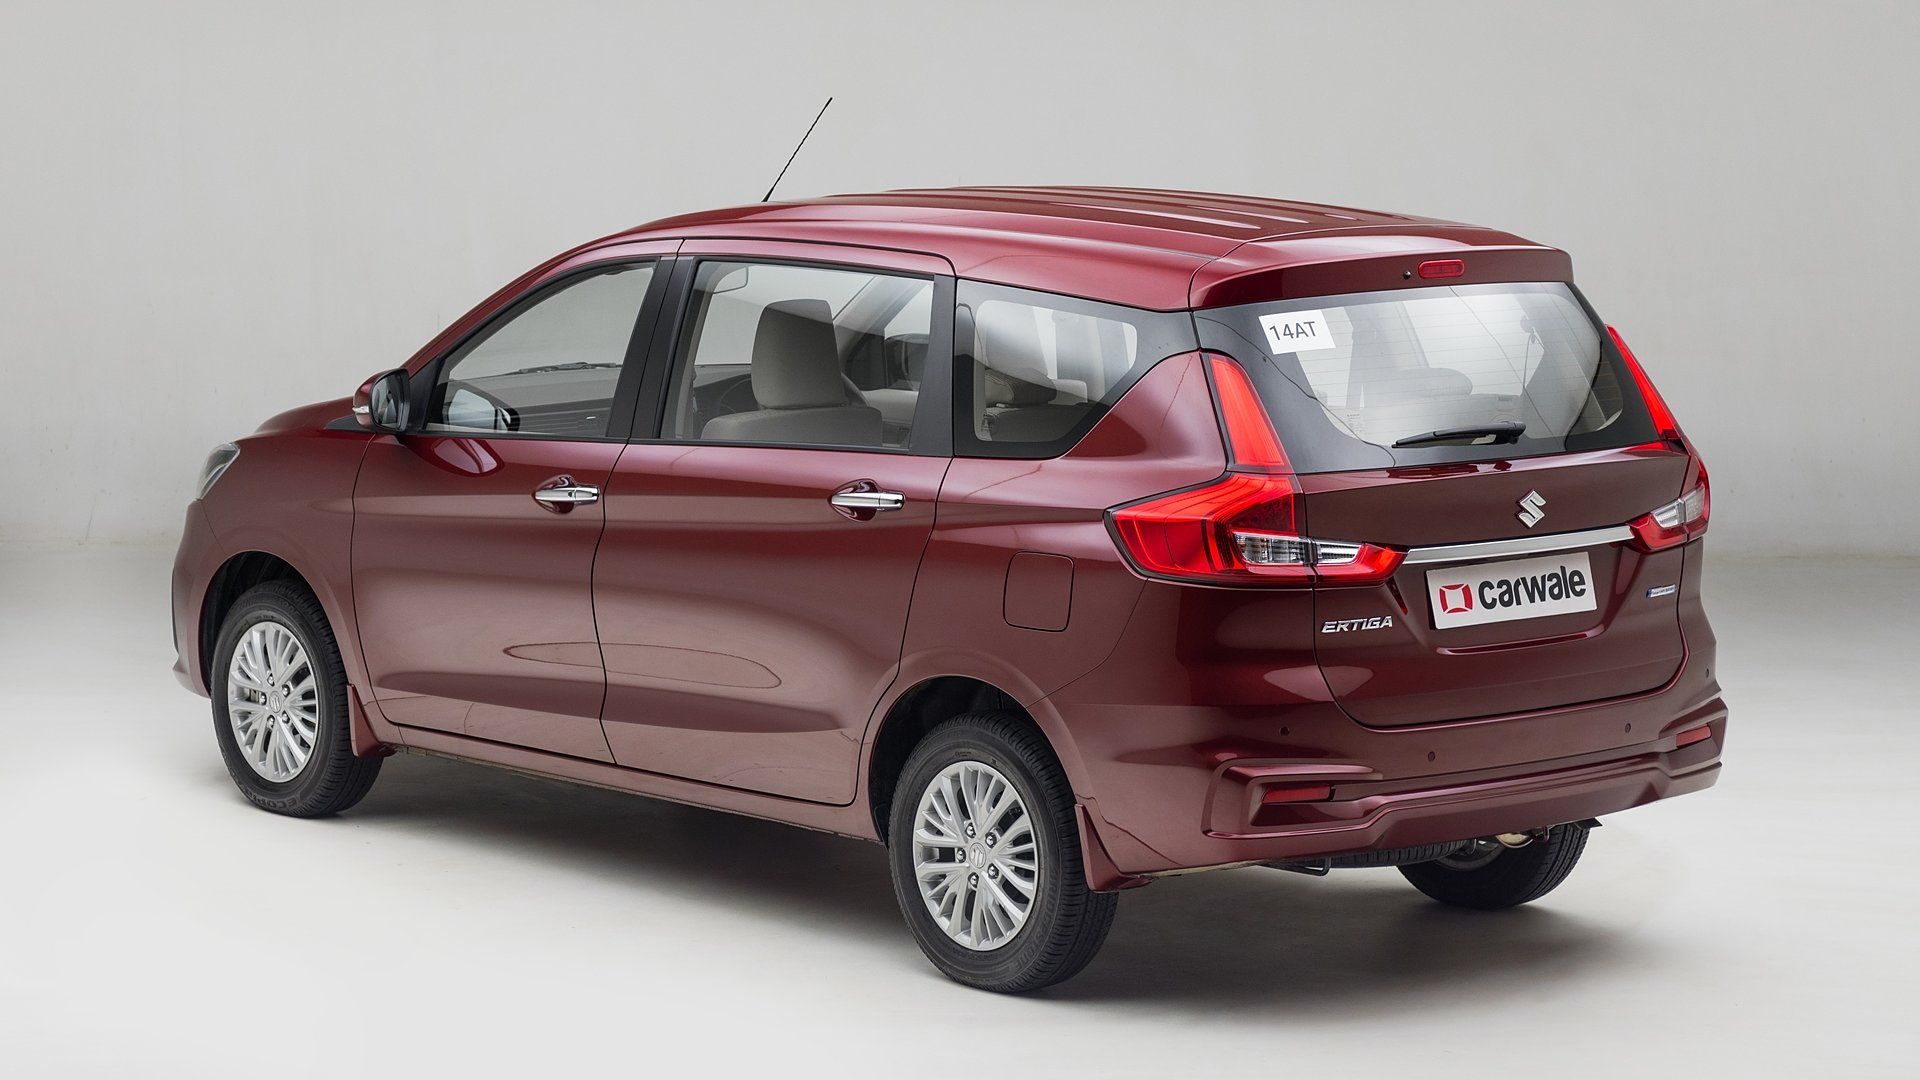car: (167, 179, 1735, 1000)
